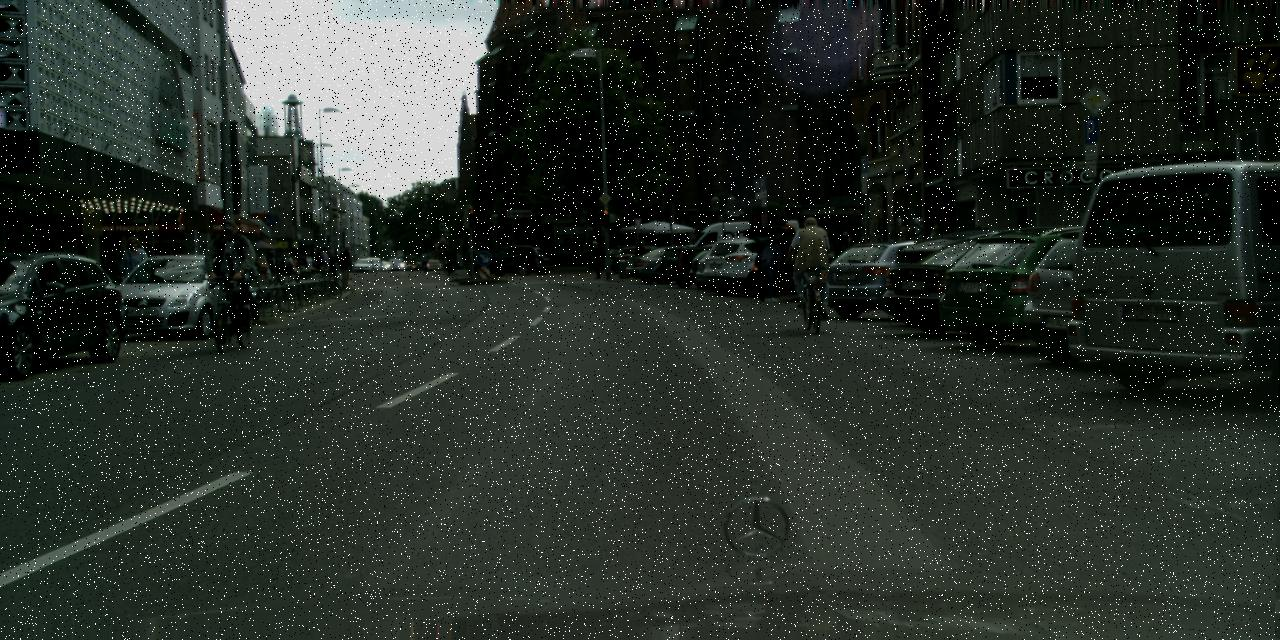ped: (209, 219, 254, 332), (791, 216, 830, 312), (120, 235, 148, 302), (761, 238, 786, 300), (275, 247, 339, 267), (921, 224, 943, 278), (104, 252, 122, 298), (337, 244, 354, 288), (252, 250, 268, 289), (588, 241, 604, 278), (263, 250, 278, 288), (837, 232, 852, 268), (612, 241, 622, 269), (631, 239, 647, 256), (445, 249, 454, 271), (420, 251, 428, 270), (330, 270, 338, 276), (974, 227, 989, 229)
